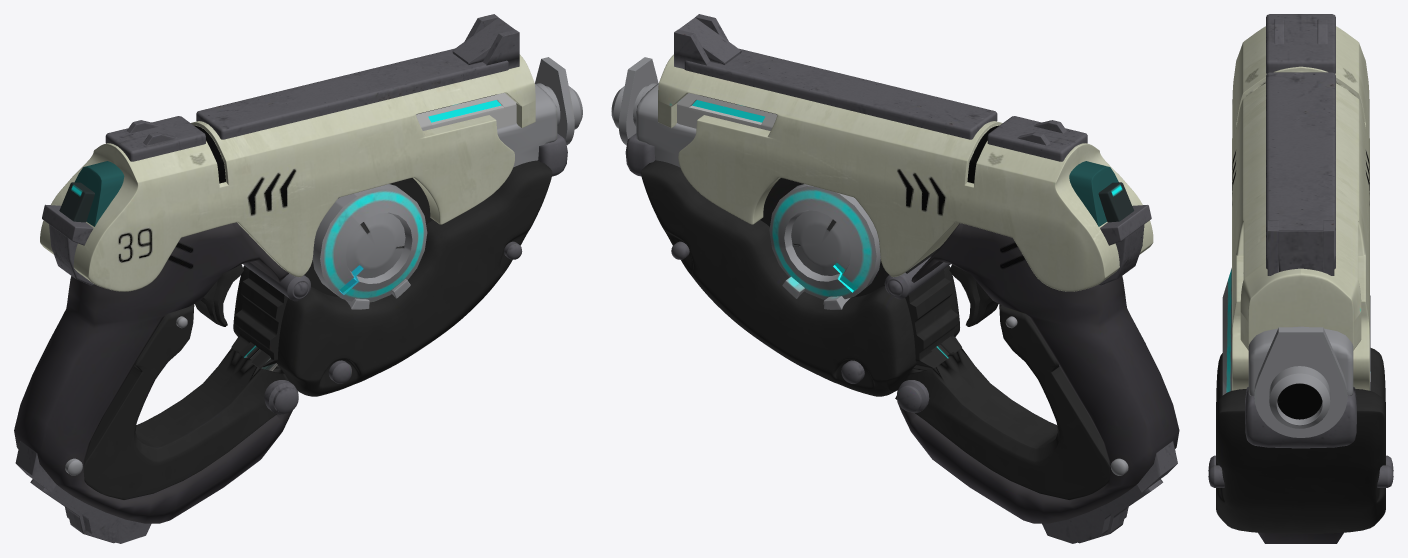
3 views of the same model, side by side, from view 1: azimuth 30°, elevation 25°; view 2: azimuth 150°, elevation 25°; view 3: azimuth 270°, elevation 25° (orthographic). The views are drawn at different scales.
Parts seen in each view (by area): view 1: SM_BlancoArriba_high, SM_MangoNegro_high, SM_Panza_high, SM_Conector_high, Nucleo1, SM_MedioArriba_high, SM_Cartucho_high, SM_Mira_high, SM_RetopoAtrasArriba_high, SM_Adelante_high, SM_Panel_high, SM_Punta_high (+9 smaller); view 2: SM_BlancoArriba_high, SM_MangoNegro_high, SM_Panza_high, SM_Conector_high, Nucleo1, SM_MedioArriba_high, SM_Cartucho_high, SM_Mira_high, SM_RetopoAtrasArriba_high, SM_Adelante_high, SM_Panel_high, SM_Punta_high (+9 smaller); view 3: SM_BlancoArriba_high, SM_Panza_high, SM_MedioArriba_high, SM_Punta_high, SM_RetopoAtrasArriba_high, SM_PuntaFinal_high, SM_Mira_high, SM_AbajoMira_high, SM_Adelante_high, Nucleo1, SM_MangoNegro_high, SM_Tornillos_high (+1 smaller).
Part boxes in pixels (x1,y1,x2,y2): SM_BlancoArriba_high: (40,54,535,291); SM_MangoNegro_high: (14,222,292,523); SM_Panza_high: (233,160,552,396); SM_Conector_high: (83,178,432,499); Nucleo1: (312,184,427,302); SM_MedioArriba_high: (196,48,508,139); SM_Cartucho_high: (15,441,151,543); SM_Mira_high: (452,14,519,68); SM_RetopoAtrasArriba_high: (105,116,205,161); SM_Adelante_high: (497,83,557,167); SM_Panel_high: (416,93,516,130); SM_Punta_high: (535,57,574,145); SM_BlancoArriba_high: (658,54,1153,291); SM_MangoNegro_high: (897,223,1179,523); SM_Panza_high: (641,160,959,396); SM_Conector_high: (760,178,1109,500); Nucleo1: (769,184,880,299); SM_MedioArriba_high: (684,48,997,139); SM_Cartucho_high: (1042,441,1177,543); SM_Mira_high: (674,14,741,68); SM_RetopoAtrasArriba_high: (987,116,1087,161); SM_Adelante_high: (636,83,696,167); SM_Panel_high: (677,93,777,130); SM_Punta_high: (618,57,658,145); SM_BlancoArriba_high: (1232,26,1369,390); SM_Panza_high: (1216,348,1385,533); SM_MedioArriba_high: (1266,72,1335,269); SM_Punta_high: (1254,327,1347,437); SM_RetopoAtrasArriba_high: (1266,14,1335,73); SM_PuntaFinal_high: (1269,366,1330,428); SM_Mira_high: (1267,220,1334,275); SM_AbajoMira_high: (1245,387,1356,448); SM_Adelante_high: (1248,326,1353,395); Nucleo1: (1222,268,1370,395); SM_MangoNegro_high: (1258,532,1343,543); SM_Tornillos_high: (1208,455,1393,487).
Size of the model in its own units: 9.03 by 6.56 by 1.99.
Materials: 1 (1 with a texture image).
